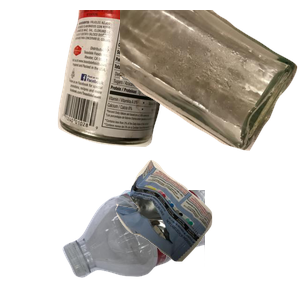glass: (120, 10, 300, 153)
metal: (55, 10, 227, 149)
plastic: (60, 190, 300, 280)
trash: (113, 157, 300, 300)
